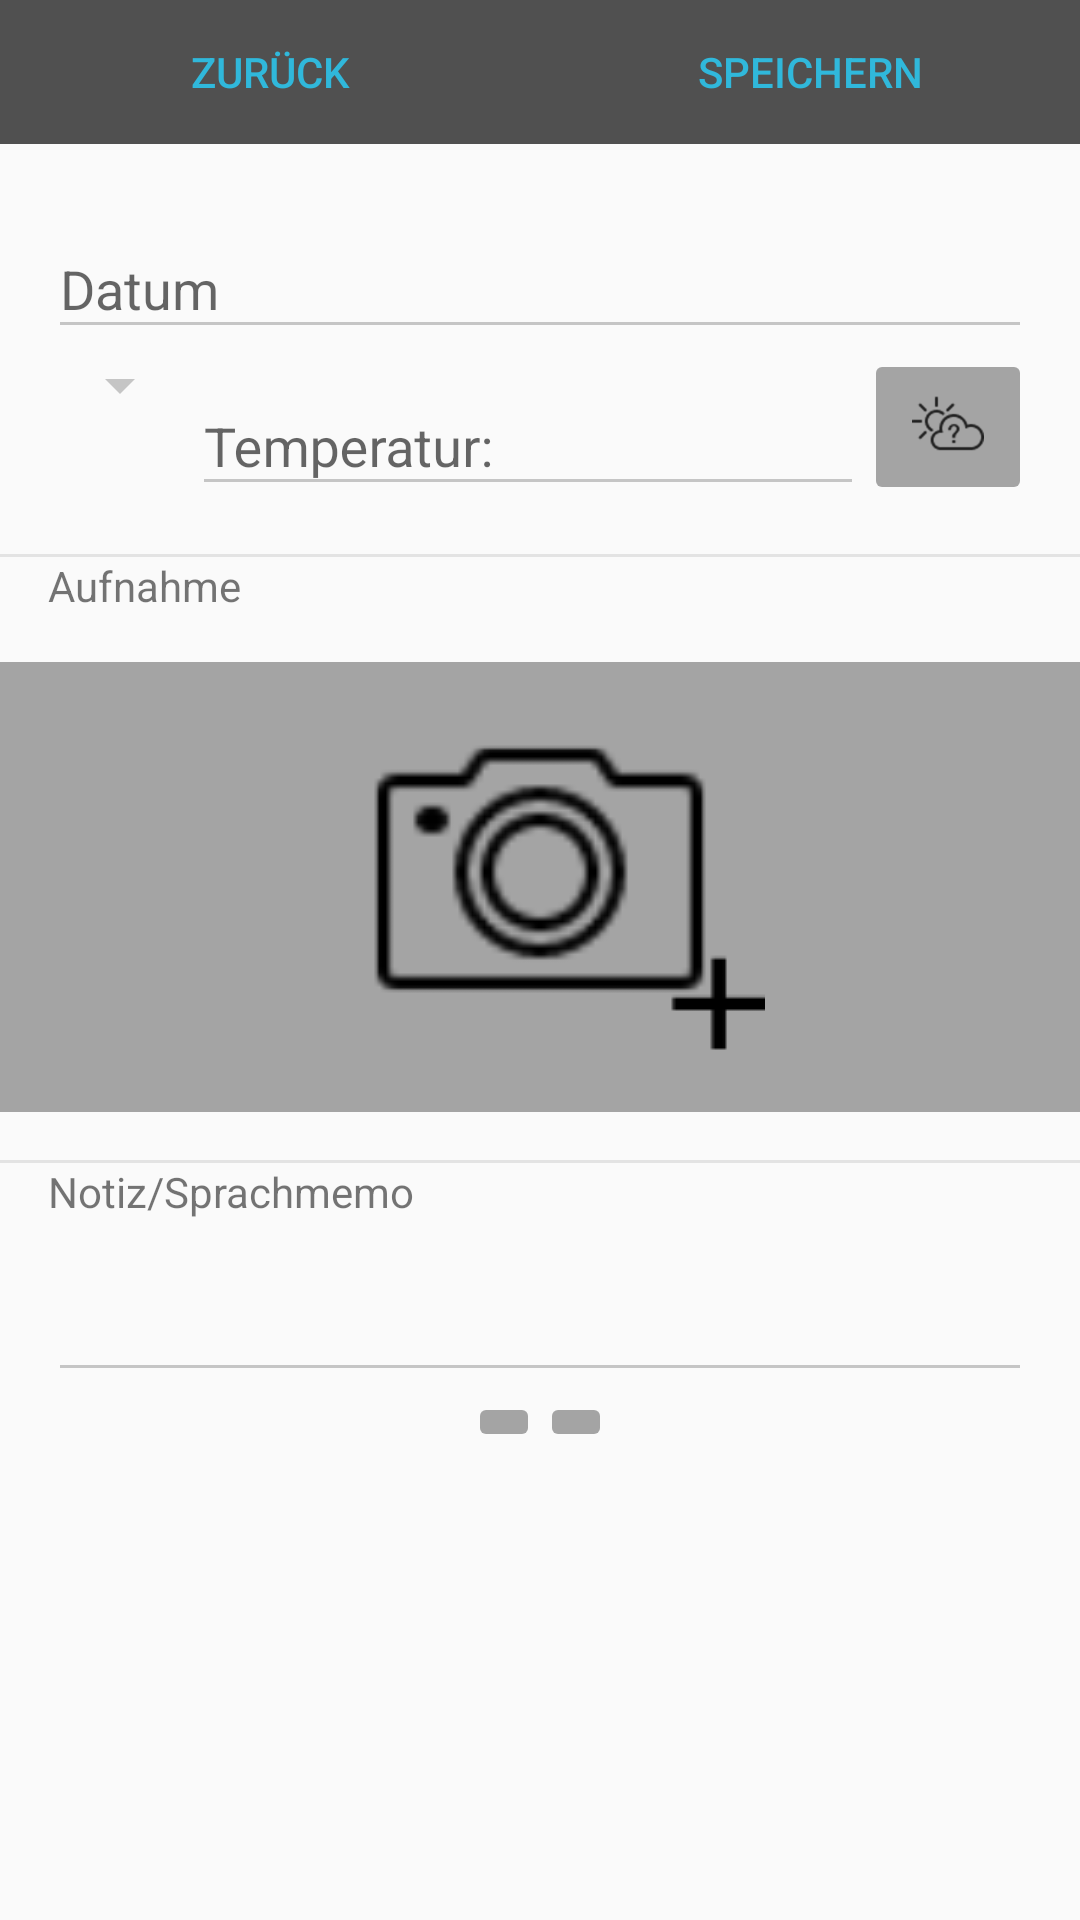

Named icons in this screenshot (1080 × 1920) and their centers, [x,y]:
autofind weather: [948,427]
